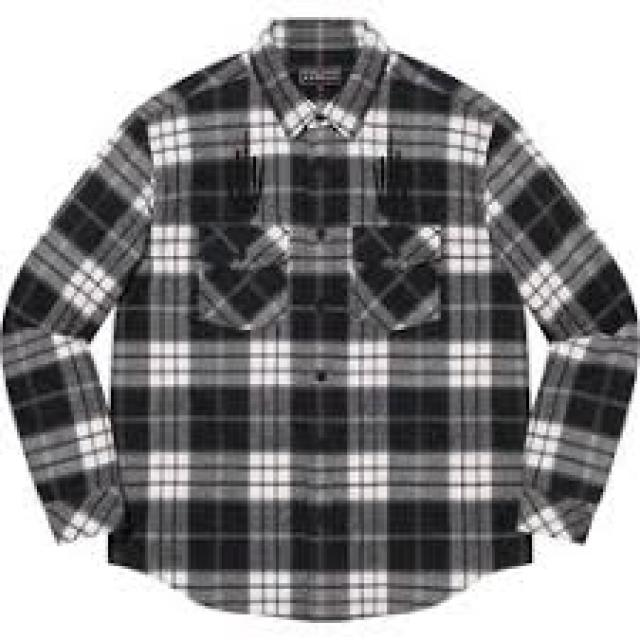plaid: (0, 8, 637, 614)
